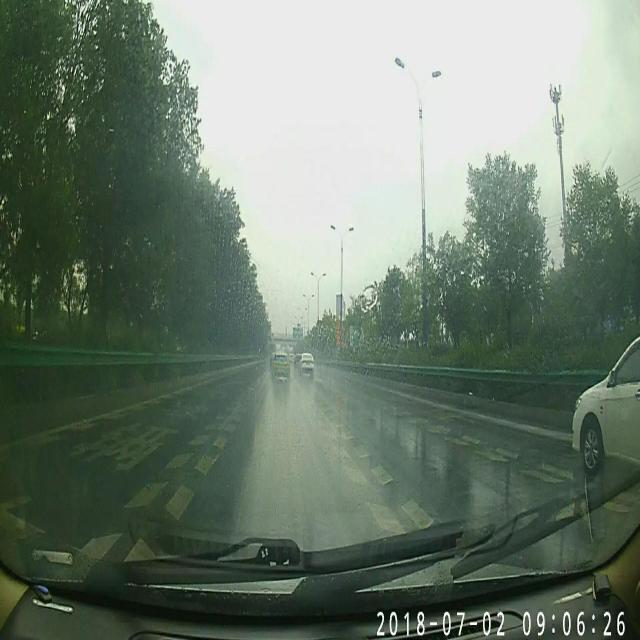car: (569, 336, 640, 472), (270, 349, 292, 382), (296, 350, 314, 378)
